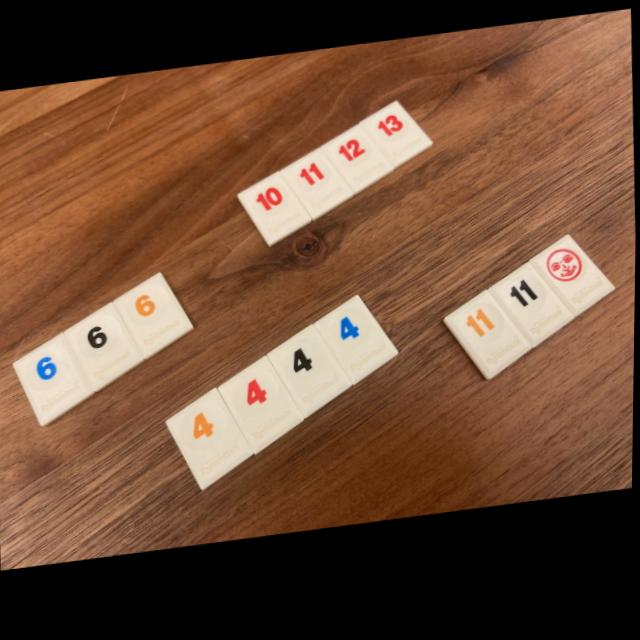black_11: (491, 274, 574, 358)
black_4: (268, 331, 352, 423)
black_6: (65, 305, 144, 394)
blue_4: (315, 302, 399, 391)
blue_6: (13, 334, 94, 426)
joker: (530, 247, 615, 327)
orange_11: (445, 299, 532, 389)
orange_4: (166, 392, 254, 493)
orange_6: (115, 276, 193, 360)
red_10: (238, 177, 312, 251)
red_11: (282, 154, 354, 225)
red_12: (322, 132, 394, 199)
red_13: (360, 108, 432, 175)
red_4: (218, 361, 304, 458)
